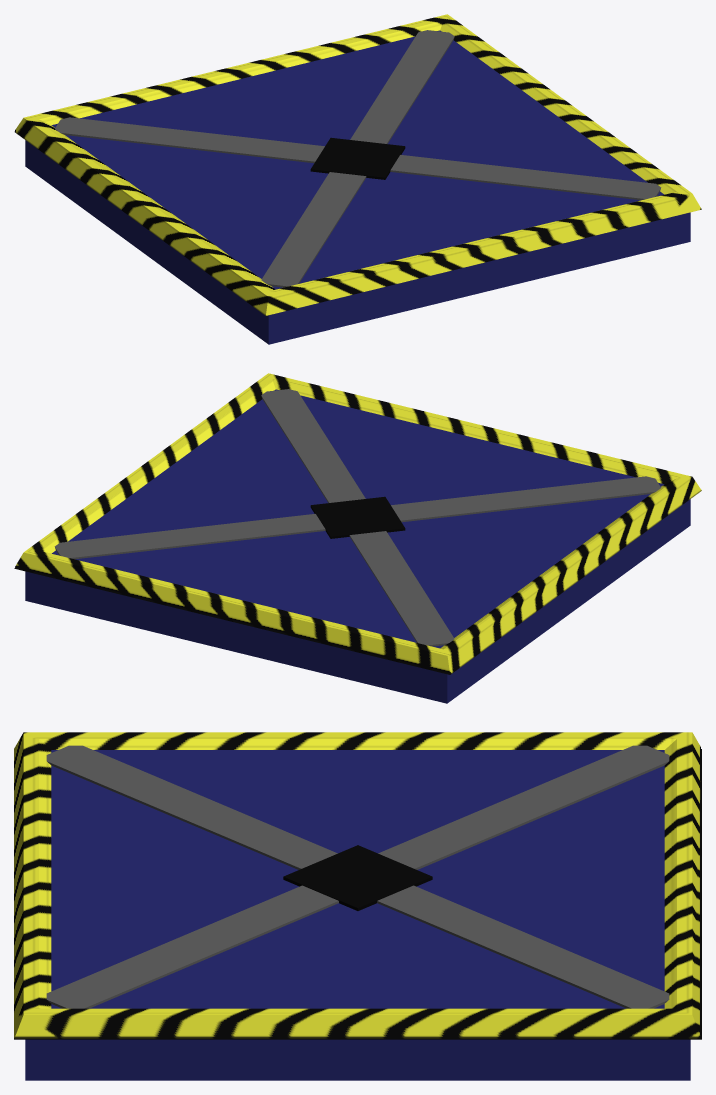
File: PlatformModel.fbx
The picture shows the model from 3 angles, top to bottom: view 1: azimuth 30°, elevation 25°; view 2: azimuth 150°, elevation 25°; view 3: azimuth 270°, elevation 25°; orthographic projection. The views are drawn at different scales.
Visible parts, largest first — view 1: Cube, Cube.004, Cube.001, Cube.002, Cube.003; view 2: Cube, Cube.004, Cube.002, Cube.001, Cube.003; view 3: Cube, Cube.004, Cube.001, Cube.002, Cube.003.
Boxes of the visible parts, box(x1,y1,x2,y2) form: Cube: box(25, 30, 690, 344); Cube.004: box(14, 14, 701, 315); Cube.001: box(55, 117, 661, 200); Cube.002: box(261, 30, 454, 287); Cube.003: box(310, 137, 405, 179); Cube: box(25, 389, 690, 703); Cube.004: box(14, 373, 701, 674); Cube.002: box(54, 476, 660, 559); Cube.001: box(261, 389, 454, 646); Cube.003: box(310, 496, 405, 538); Cube: box(25, 750, 690, 1080); Cube.004: box(14, 732, 701, 1039); Cube.001: box(46, 745, 669, 1008); Cube.002: box(46, 745, 669, 1008); Cube.003: box(283, 845, 432, 910).
Size of the model in its own units: 207 by 21.98 by 207.
Materials: 4 (1 with a texture image).
